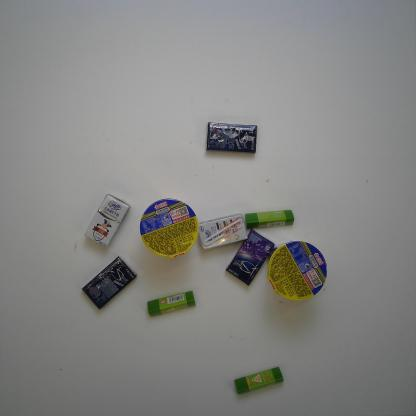Gum: (81, 255, 137, 310), (225, 229, 275, 286), (205, 121, 258, 154)
Instant Noodles: (267, 240, 328, 302), (139, 198, 200, 259)
Milk: (84, 194, 130, 248), (198, 212, 248, 250)
Stationery: (235, 366, 284, 395), (147, 291, 196, 317), (245, 209, 294, 230)
